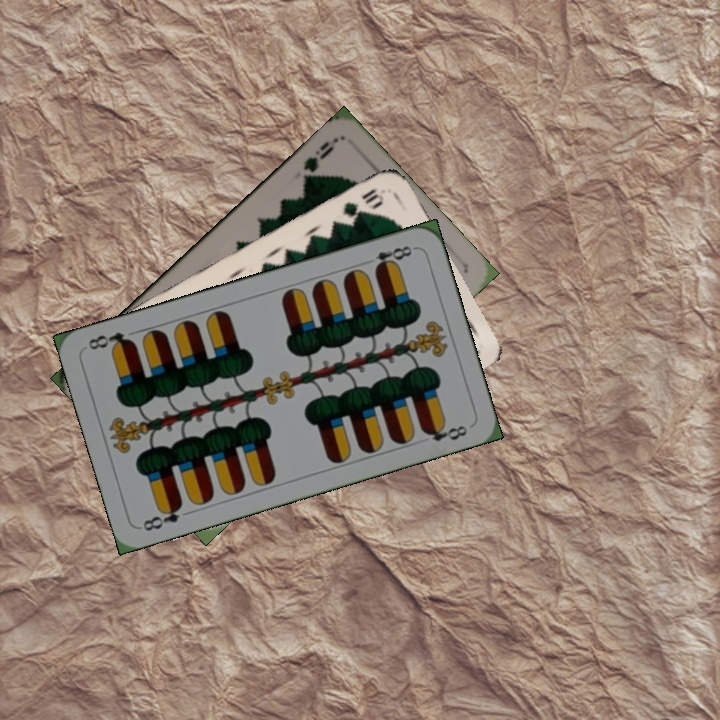E8: (138, 498, 185, 534), (370, 241, 418, 273)
G10: (338, 184, 387, 221)
G9: (299, 134, 340, 186)
